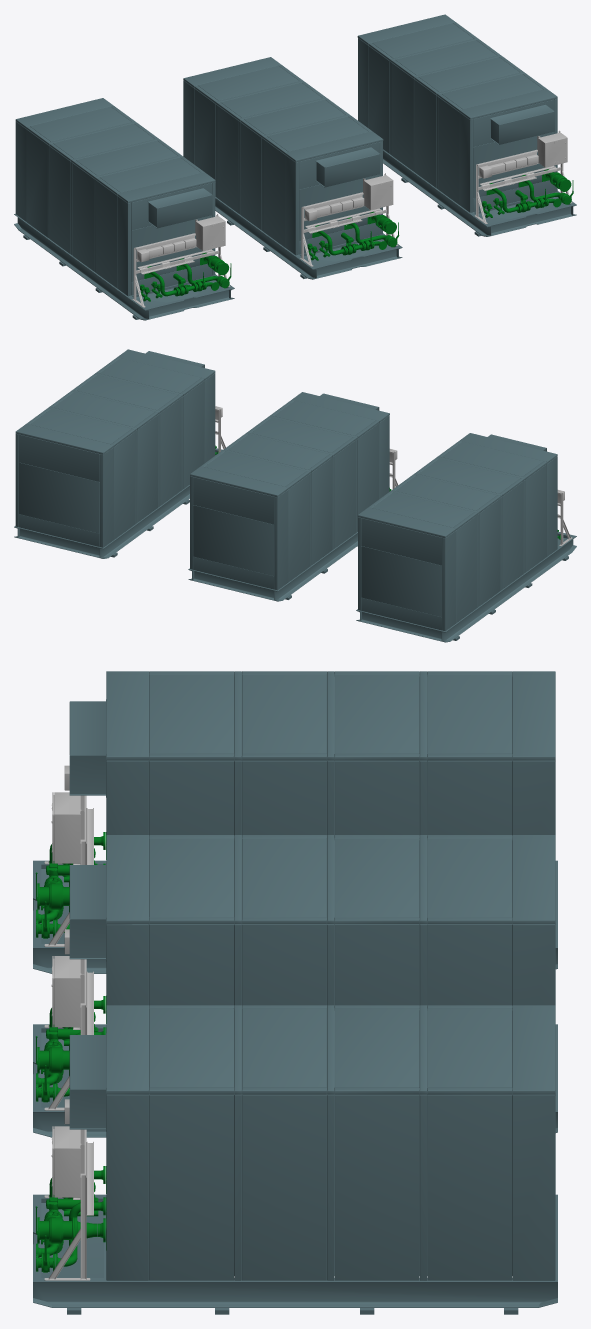
The model's file is Zone_P2_Eqp_Process_19a21.fbx.
The picture shows the model from 3 angles, top to bottom: view 1: azimuth 30°, elevation 25°; view 2: azimuth 150°, elevation 25°; view 3: azimuth 270°, elevation 25°; orthographic projection. The views are drawn at different scales.
Visible parts, largest first — view 1: EQP_Process_019_enclosure (×3), EQP_Process_019_socle (×3), EQP_Process_019_JB (×3), EQP_Process_019_piping (×3); view 2: EQP_Process_019_enclosure (×3), EQP_Process_019_socle (×3); view 3: EQP_Process_019_enclosure (×3), EQP_Process_019_socle (×3), EQP_Process_019_JB (×3), EQP_Process_019_piping (×3).
Part boxes in pixels (bbox=[...]): EQP_Process_019_enclosure (×3): bbox=[15, 14, 557, 296]; EQP_Process_019_socle (×3): bbox=[14, 149, 576, 320]; EQP_Process_019_JB (×3): bbox=[132, 130, 572, 307]; EQP_Process_019_piping (×3): bbox=[140, 169, 573, 301]; EQP_Process_019_enclosure (×3): bbox=[15, 349, 557, 631]; EQP_Process_019_socle (×3): bbox=[14, 448, 576, 642]; EQP_Process_019_enclosure (×3): bbox=[69, 671, 555, 1280]; EQP_Process_019_socle (×3): bbox=[33, 860, 557, 1314]; EQP_Process_019_JB (×3): bbox=[44, 765, 93, 1280]; EQP_Process_019_piping (×3): bbox=[35, 832, 106, 1272].
Size of the model in its own units: 1048 by 257 by 550.
